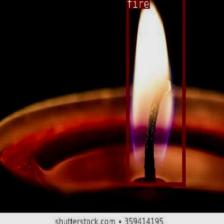fire: (125, 0, 184, 185)
